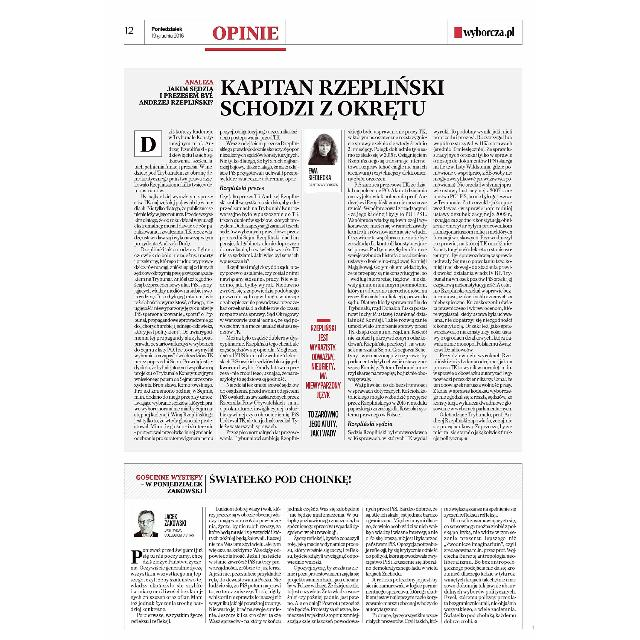article: (124, 68, 524, 452), (122, 462, 524, 632)
